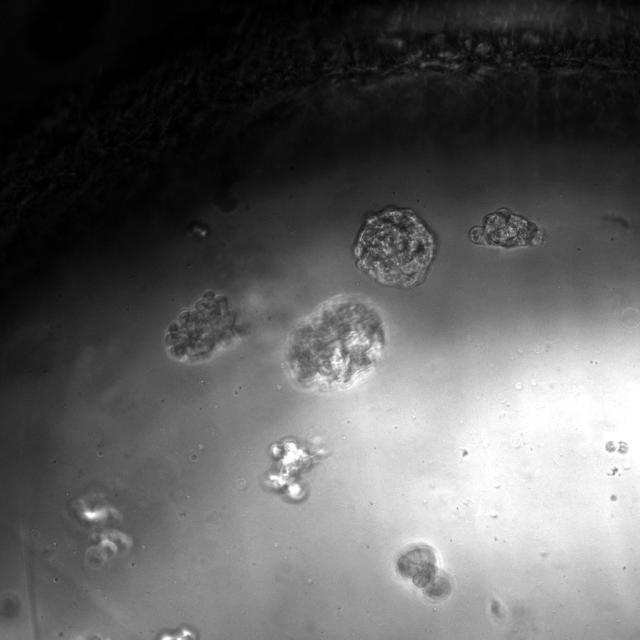organoid: (286, 296, 384, 389), (354, 205, 436, 289), (164, 290, 242, 363), (68, 492, 132, 567), (264, 437, 328, 501), (396, 545, 452, 600), (469, 208, 545, 248), (155, 624, 198, 639), (212, 192, 237, 212), (188, 220, 210, 238), (605, 441, 628, 454)
